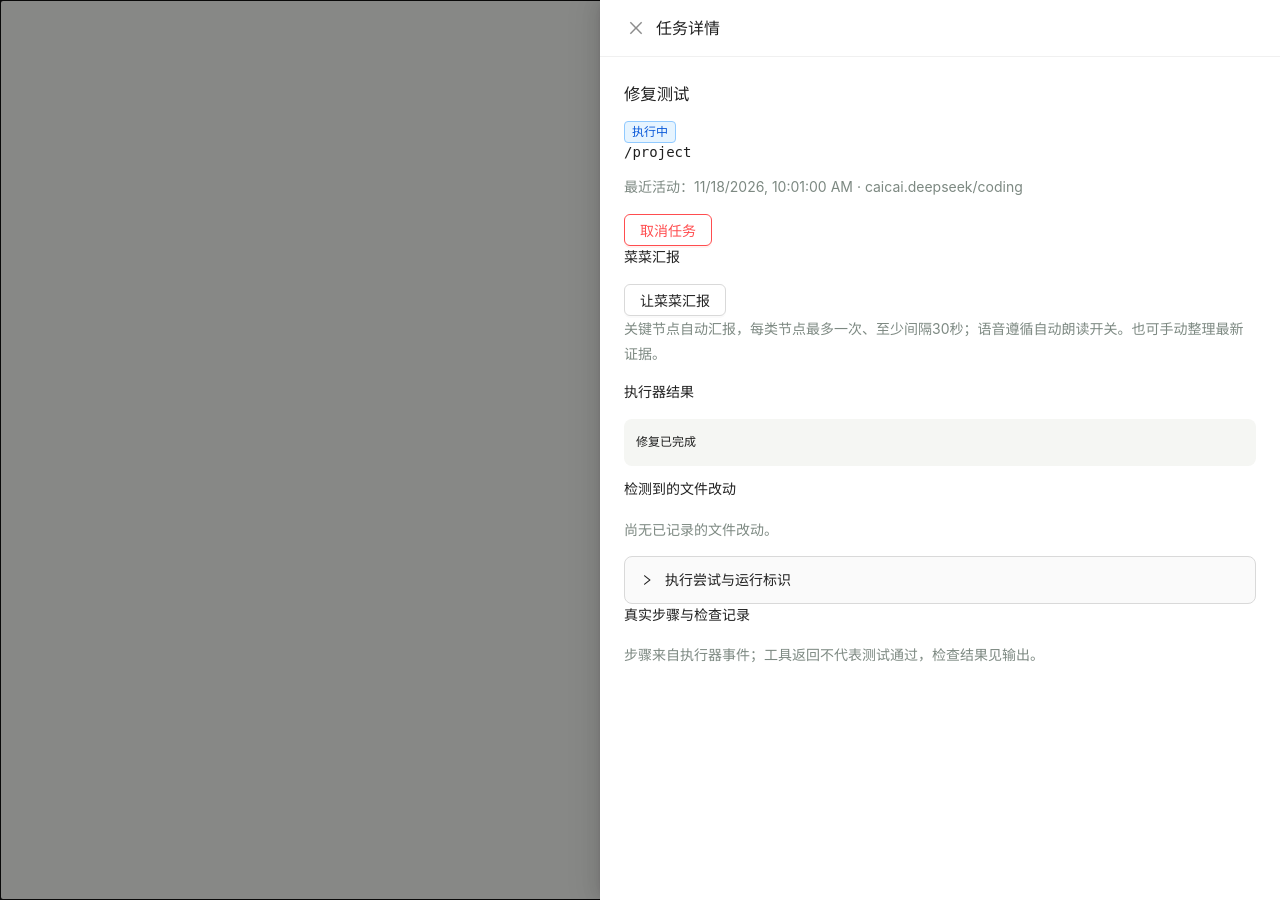
Test: cancels a running task and keeps persisted execution details available
Click the button "取消任务".
click(668, 230)  # box top-left (624, 214), bottom-right (712, 246)
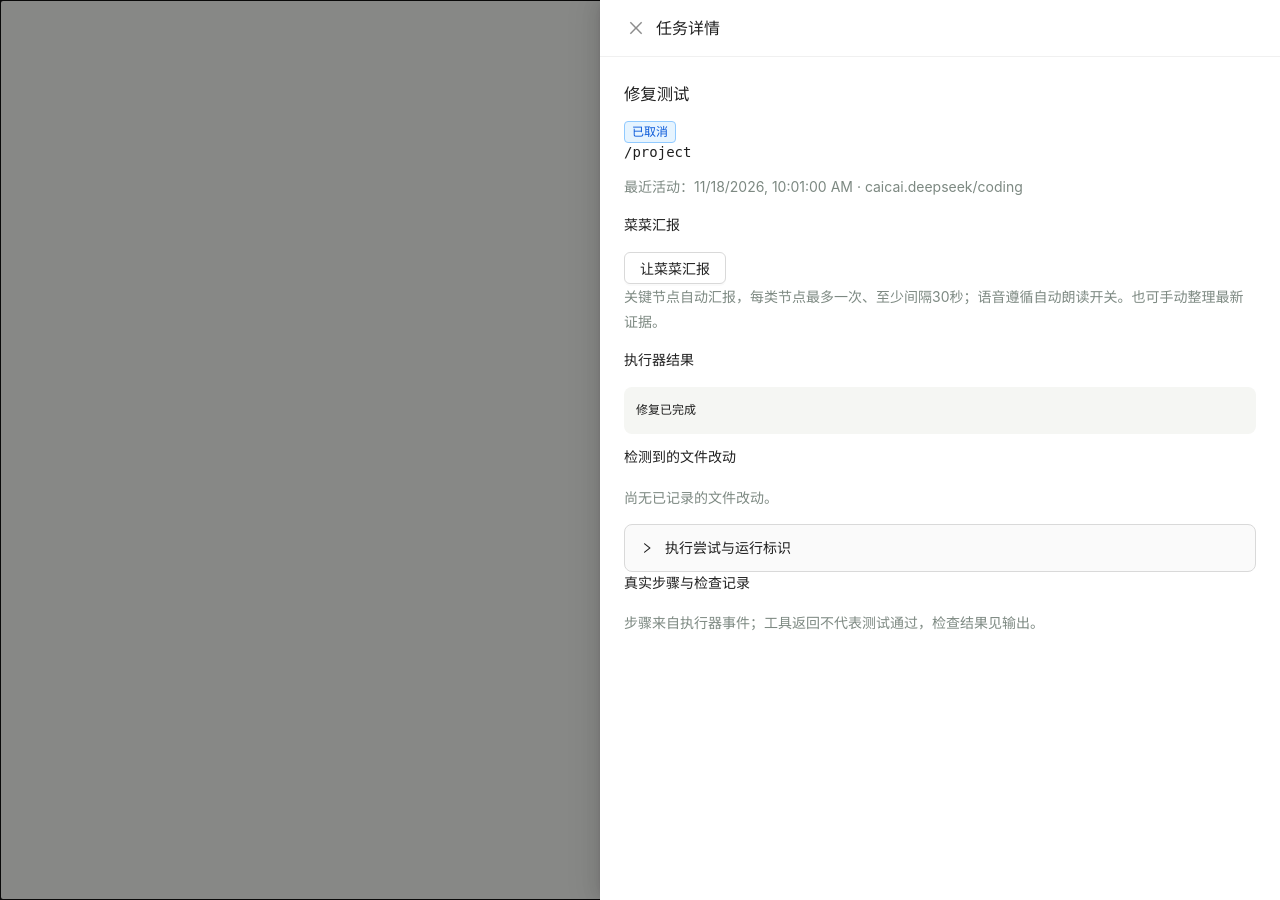
Expected: the text "已取消" is shown, top-left (624, 121), bottom-right (676, 143)
